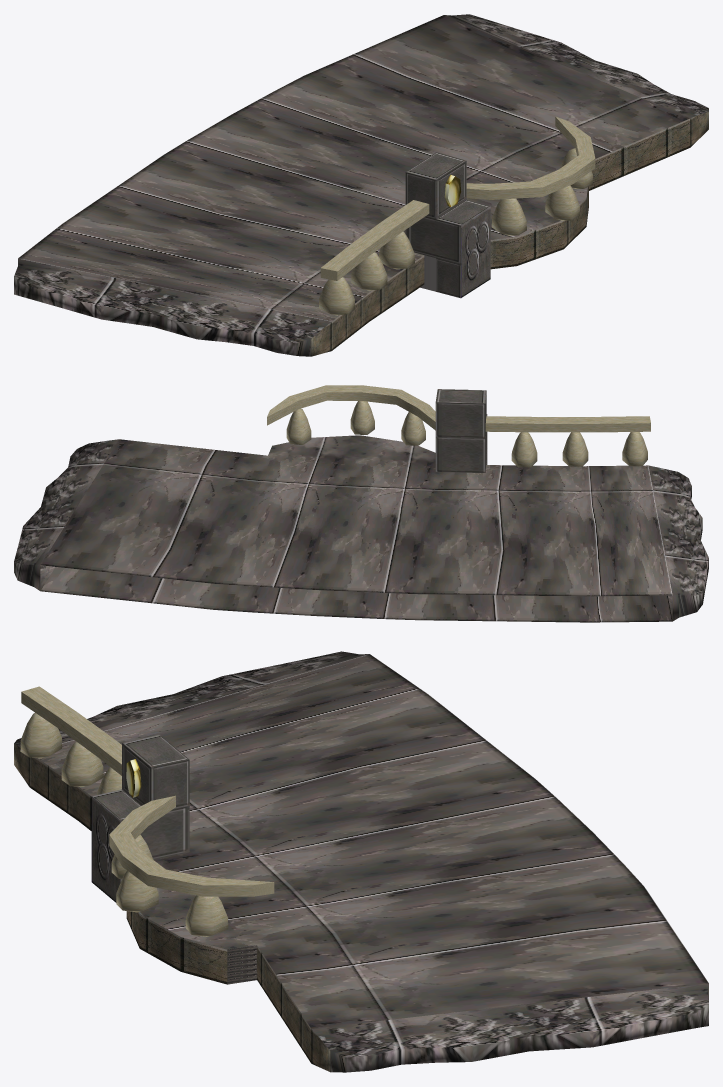
Rendered from CH09_SMAUG_PLAYSURFACE_LAIR26.fbx.
The picture shows the model from 3 angles, top to bottom: view 1: azimuth 30°, elevation 25°; view 2: azimuth 150°, elevation 25°; view 3: azimuth 270°, elevation 25°; orthographic projection. The views are drawn at different scales.
Parts seen in each view (by area): view 1: CH09_SMAUG_PLAYSURFACE_LAIR26; view 2: CH09_SMAUG_PLAYSURFACE_LAIR26; view 3: CH09_SMAUG_PLAYSURFACE_LAIR26.
Boxes of the visible parts, x1,y1,x2,y2 form: CH09_SMAUG_PLAYSURFACE_LAIR26: [14, 14, 708, 356]; CH09_SMAUG_PLAYSURFACE_LAIR26: [14, 385, 708, 622]; CH09_SMAUG_PLAYSURFACE_LAIR26: [14, 651, 708, 1072].
Bounding box in the file's own units: 151445 × 23218 × 110321.
6 materials, 6 textured.
